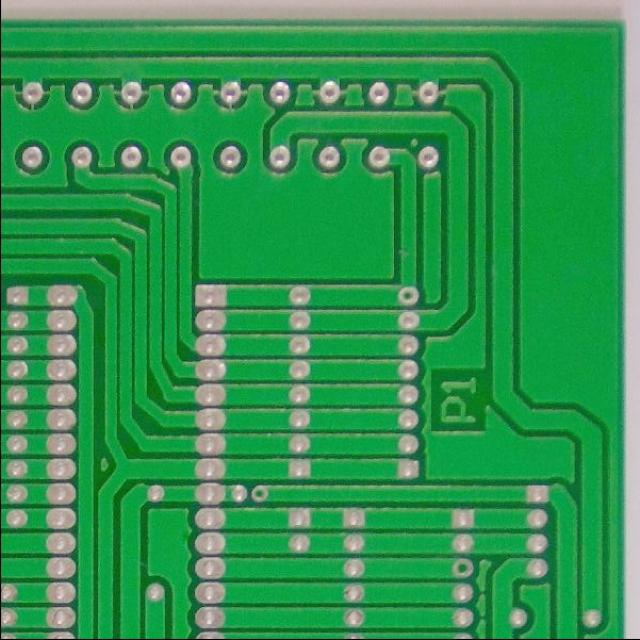missing_hole: (394, 287, 421, 309), (449, 558, 476, 579), (248, 486, 274, 504)
